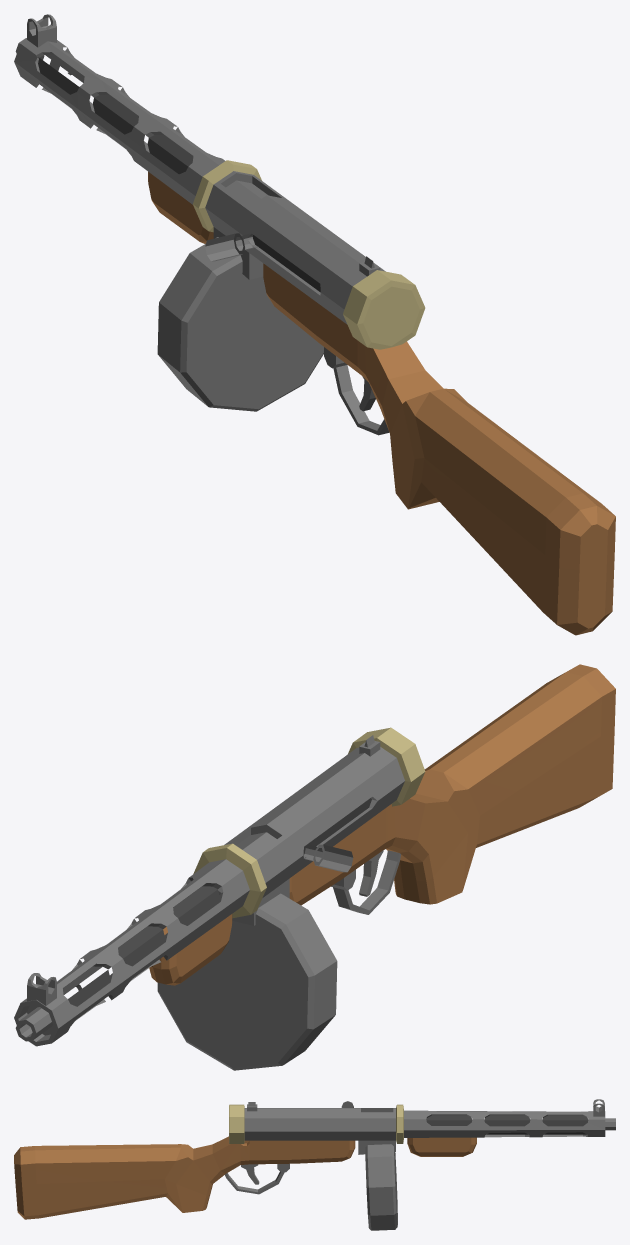
3 views of the same model, one above another, from view 1: azimuth 30°, elevation 25°; view 2: azimuth 150°, elevation 25°; view 3: azimuth 270°, elevation 25° (orthographic). The views are drawn at different scales.
Parts seen in each view (by area): view 1: PPSH40_217e46, PPSH40_8d3185, PPSH40_7f343b, PPSH40_aaefb9; view 2: PPSH40_217e46, PPSH40_8d3185, PPSH40_7f343b, PPSH40_aaefb9; view 3: PPSH40_8d3185, PPSH40_217e46, PPSH40_aaefb9, PPSH40_7f343b.
Part boxes in pixels (left/top/right/bottom): PPSH40_217e46: left=14, top=14, right=389, bottom=435; PPSH40_8d3185: left=148, top=171, right=615, bottom=635; PPSH40_7f343b: left=193, top=160, right=425, bottom=349; PPSH40_aaefb9: left=38, top=54, right=320, bottom=292; PPSH40_217e46: left=14, top=735, right=404, bottom=1070; PPSH40_8d3185: left=149, top=664, right=615, bottom=985; PPSH40_7f343b: left=193, top=727, right=425, bottom=918; PPSH40_aaefb9: left=63, top=798, right=371, bottom=1018; PPSH40_8d3185: left=14, top=1136, right=476, bottom=1219; PPSH40_217e46: left=225, top=1099, right=615, bottom=1230; PPSH40_aaefb9: left=426, top=1115, right=588, bottom=1134; PPSH40_7f343b: left=229, top=1104, right=403, bottom=1143.
Bounding box in the file's own units: 0.1583 × 0.2298 × 1.
